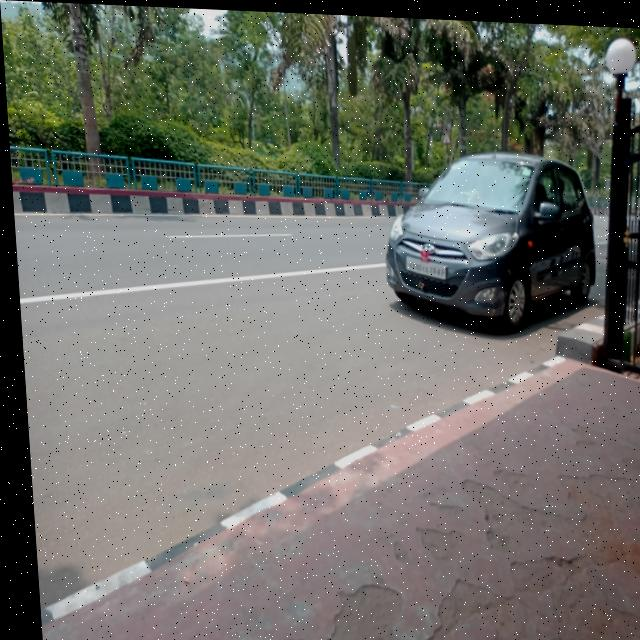car: (374, 132, 606, 346)
